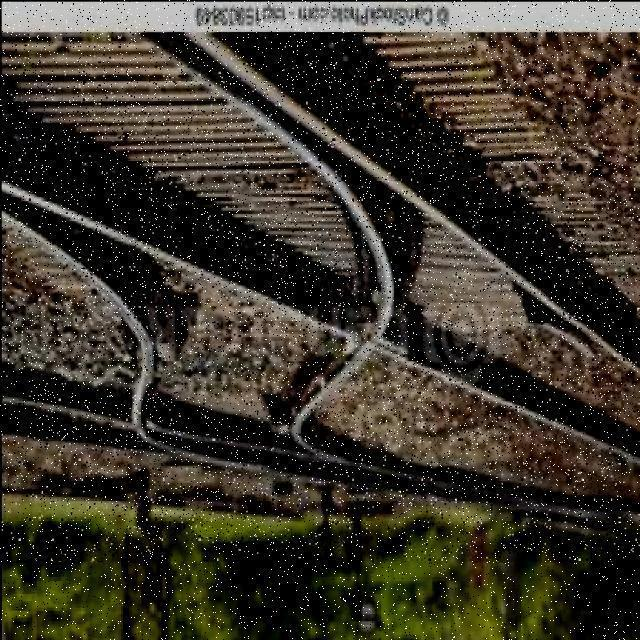rail: (1, 34, 640, 560)
